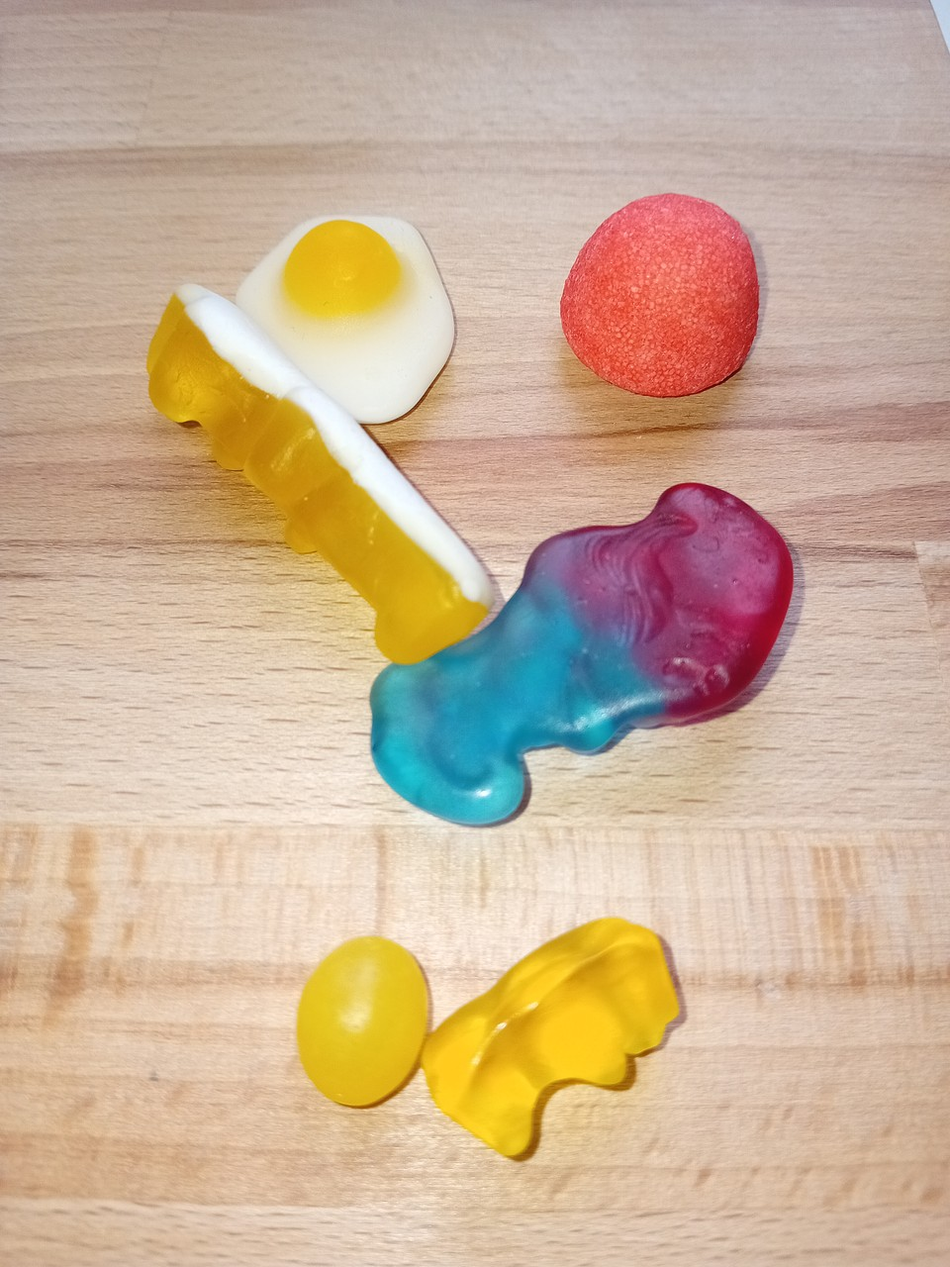crocodile_jaune: (142, 275, 502, 669)
dragibus_jaune: (288, 929, 432, 1114)
oeuf_oeuf: (236, 211, 455, 428)
ourson_jaune: (417, 912, 695, 1163)
schtroumpf_bleu-rouge: (362, 479, 804, 826)
tagada_fraise: (552, 185, 775, 410)
